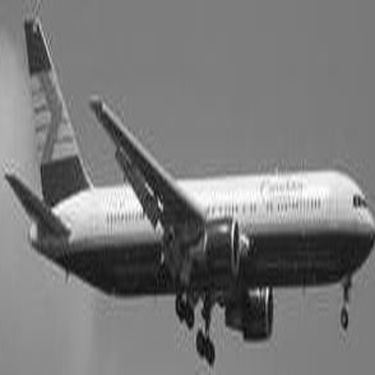airplane: (6, 8, 367, 366)
